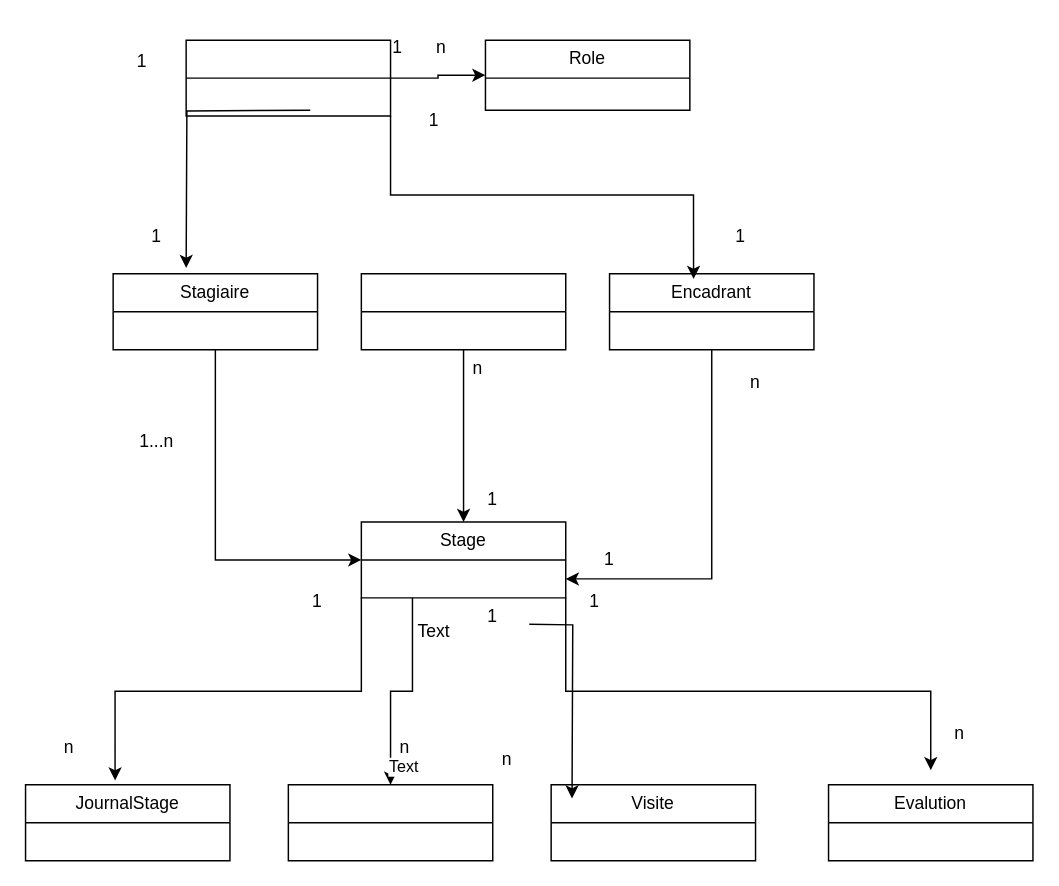
Image size: 1059x886. Some labels were removed from this diagram. The centre of each missing label's shape, as x and y in pixels:
"Entreprise" belongs at point (463, 311).
"ObjectifStage" belongs at point (390, 822).
"User" belongs at point (288, 77).
